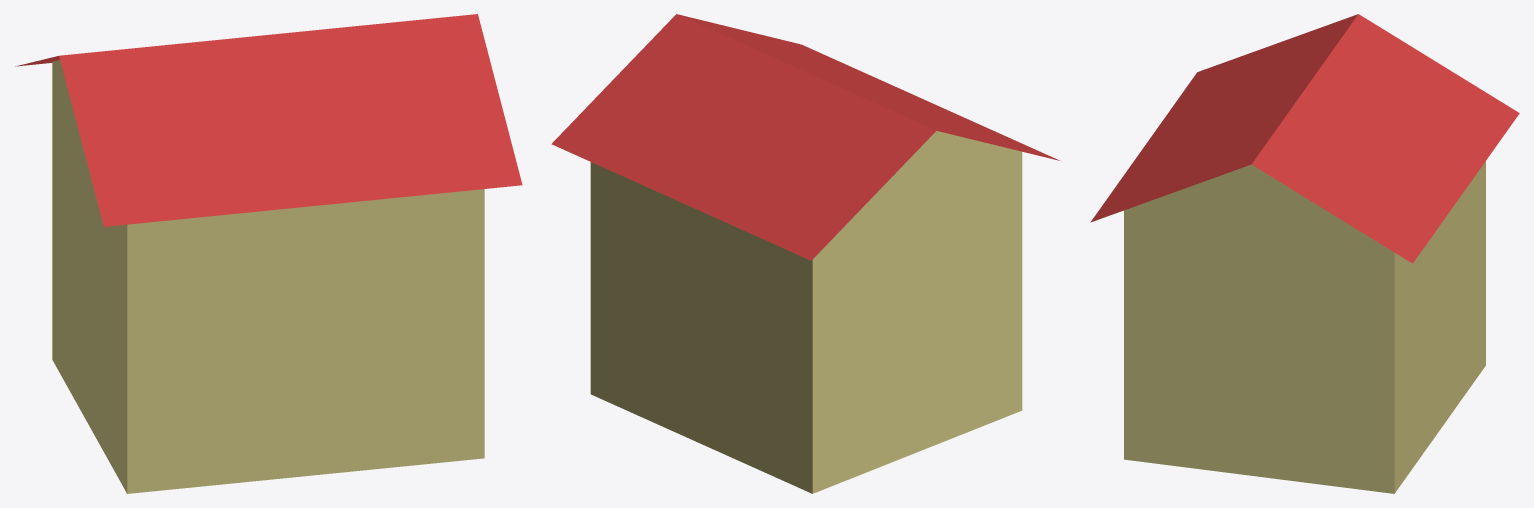
3 views of the same model, side by side, from view 1: azimuth 30°, elevation 25°; view 2: azimuth 150°, elevation 25°; view 3: azimuth 270°, elevation 25° (orthographic). The views are drawn at different scales.
Visible parts, largest first — view 1: group_5, group_3, group_4; view 2: group_5, group_3, group_4; view 3: group_5, group_3, group_4.
Part boxes in pixels (x1,y1,x2,y2): group_5: (52, 60, 484, 493); group_3: (90, 15, 522, 226); group_4: (15, 14, 477, 226); group_5: (590, 131, 1022, 493); group_3: (552, 14, 1056, 260); group_4: (551, 14, 1059, 169); group_5: (1124, 161, 1485, 493); group_3: (1090, 14, 1519, 262); group_4: (1181, 14, 1429, 263).
Size of the model in its own units: 16.65 by 15.79 by 13.11.
